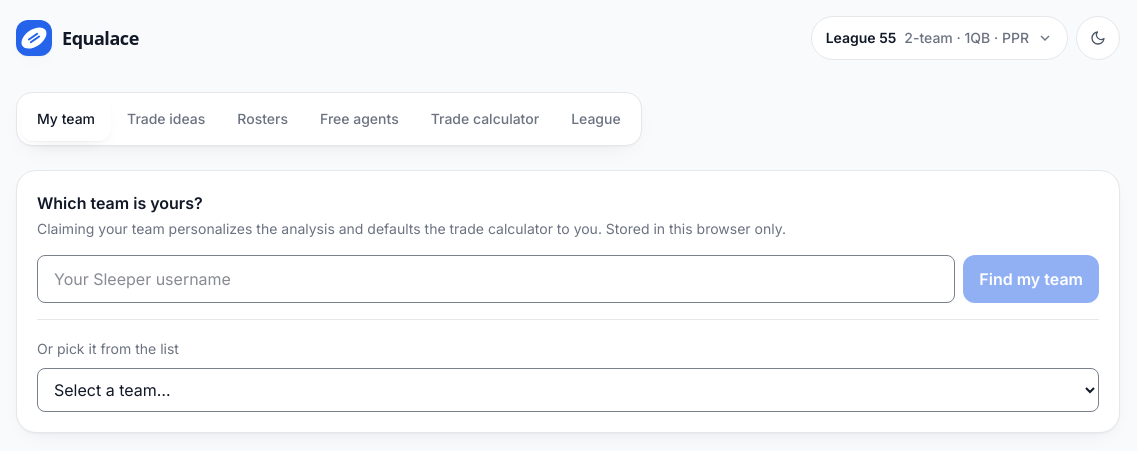
Scenario: App — a league that does not trade › explains the rule on the calculator instead of pricing offers nobody can accept
Click the tab "Trade calculator" at (485, 119), box [415,97,555,141]
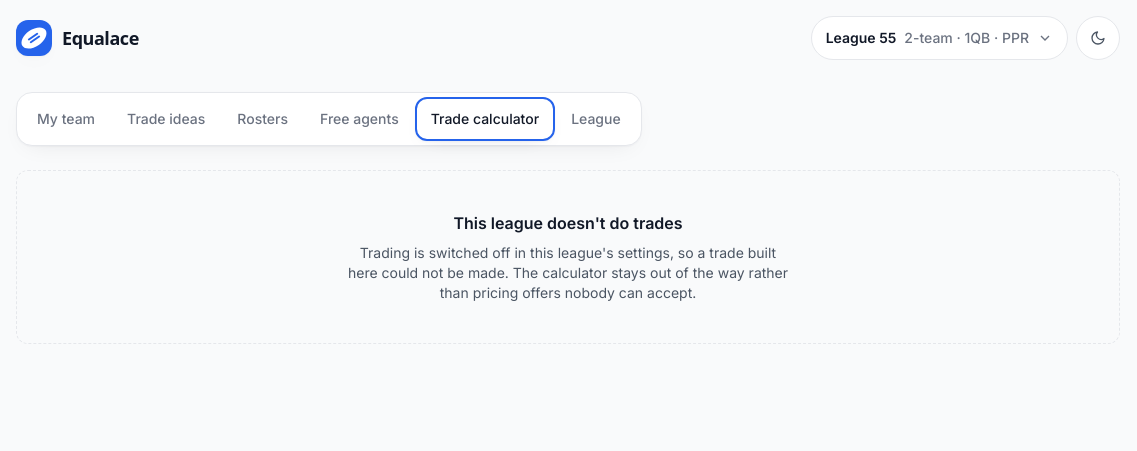
Now the text "This league doesn't do trades" is shown, box [453,213,682,233]
Now the text "could not be made" is shown, box [348,244,788,301]
